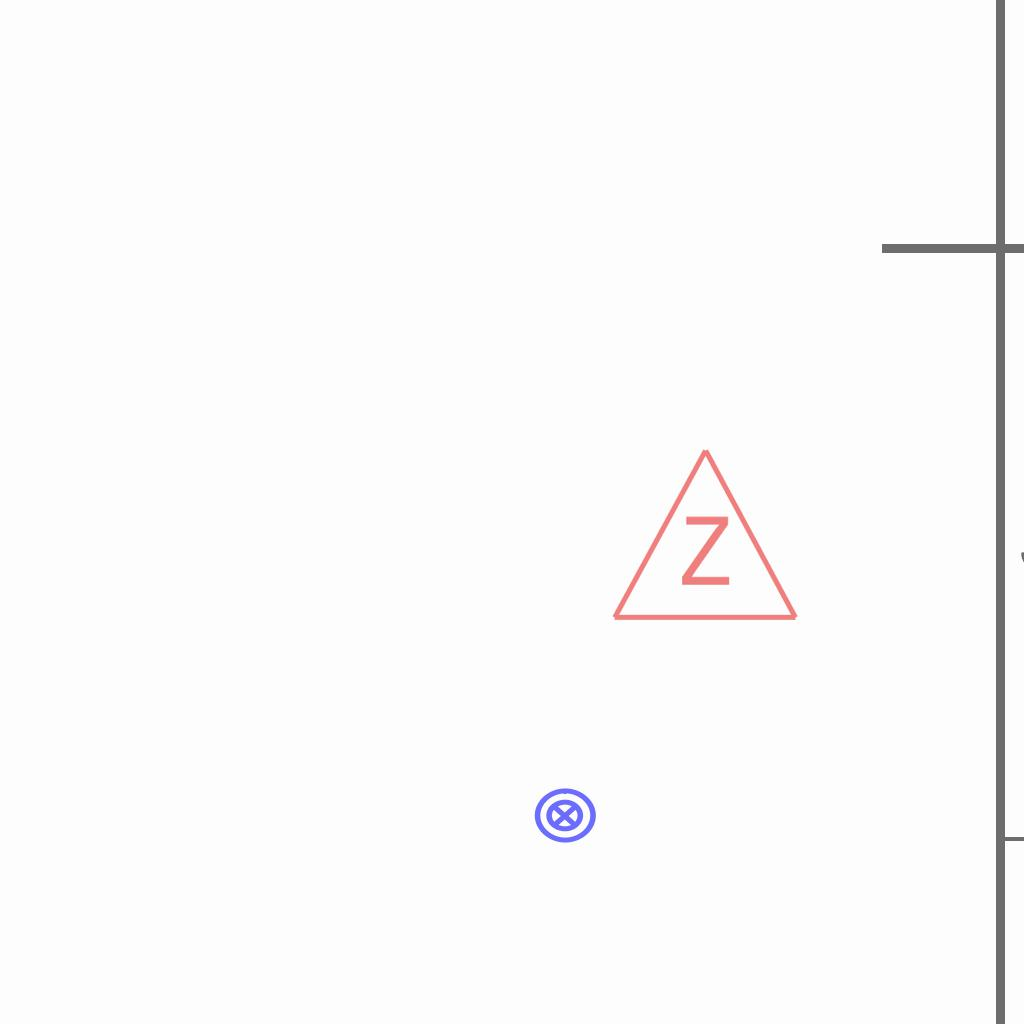Taster_beleuchtet: (532, 783, 598, 849)
Zimmersignalleuchte: (605, 435, 801, 635)
